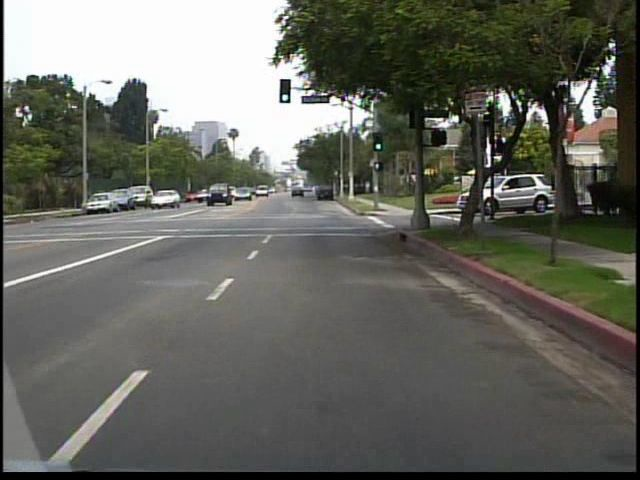person: (364, 176, 373, 196)
